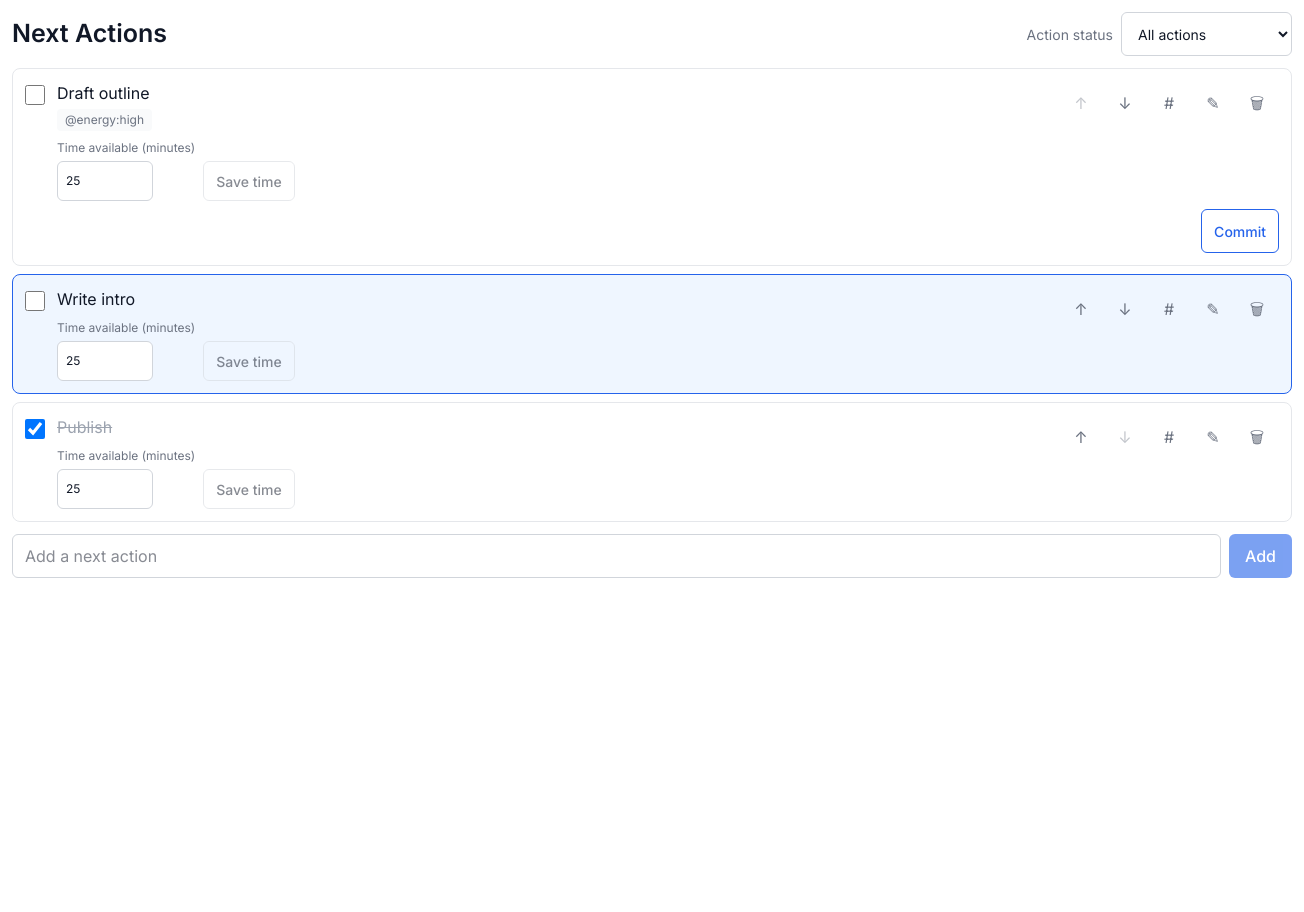
Test: ActionList › does not refresh or prompt when completing a committed action fails
This screenshot has width=1304, height=912.
Click the checkbox named "Mark \"Write intro\" done".
click(35, 301)  # box [25,291,45,311]
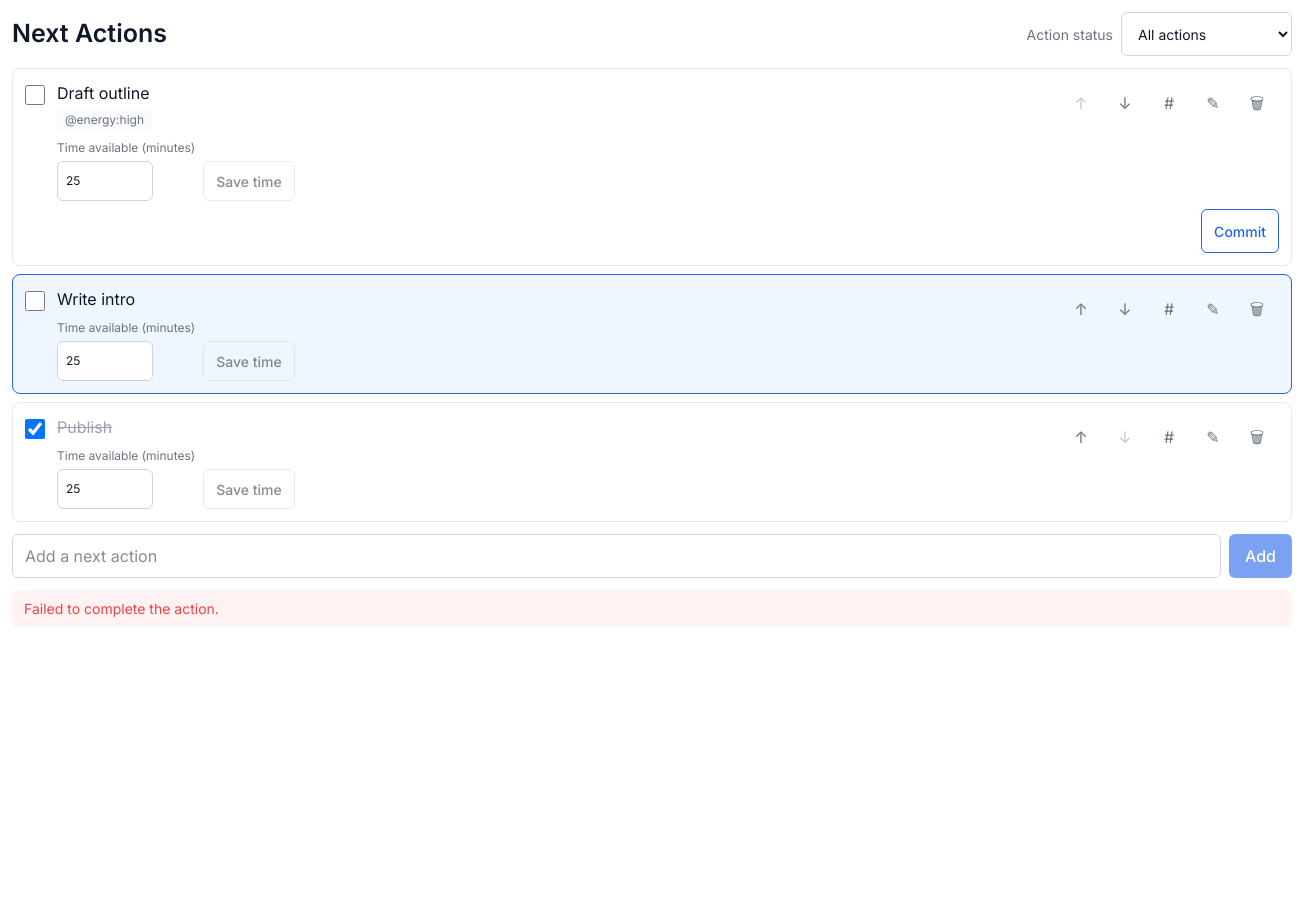
Result: the message reads "Failed to complete the action." at [24,600,219,617]
